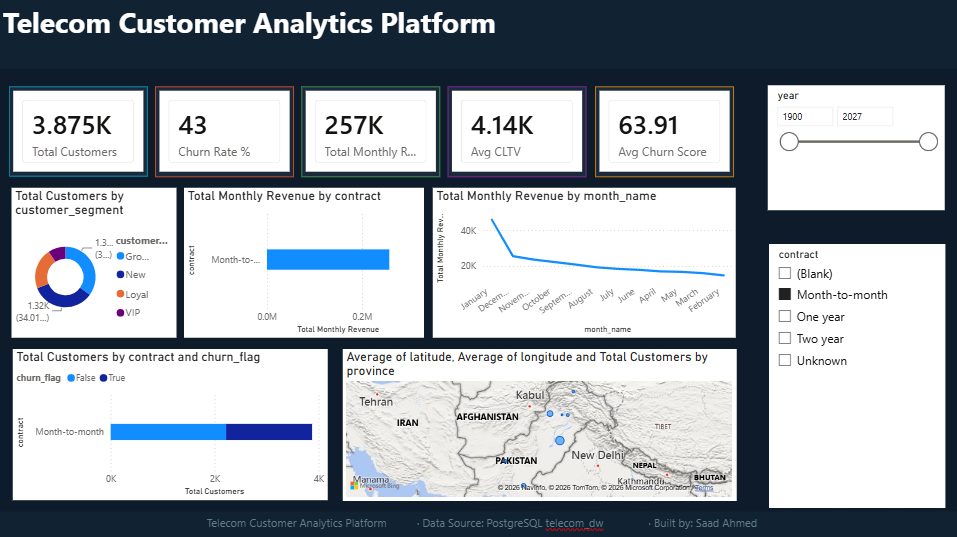

This screenshot's page, from the dashboard's own definition file:
{"tool":"powerbi","page":{"name":"Executive Summary","canvas":[1280,720],"ordinal":0},"visuals":[{"type":"textbox","box":[0,0,1280,92.9],"z":0},{"type":"cardVisual","fields":{"Data":["gold fact_customer_snapshot.Total Customers"]},"box":[13.9,116,185,120],"z":1000},{"type":"cardVisual","fields":{"Data":["gold fact_customer_snapshot.Churn Rate %"]},"box":[208.9,116,185,120.8],"z":2000},{"type":"cardVisual","fields":{"Data":["gold fact_customer_snapshot.Total Monthly Revenue"]},"box":[403.9,116,185,120.8],"z":3000},{"type":"cardVisual","fields":{"Data":["gold fact_customer_snapshot.Avg CLTV"]},"box":[598.9,116,185,120.8],"z":4000},{"type":"cardVisual","fields":{"Data":["gold fact_customer_snapshot.Avg Churn Score"]},"box":[794.7,116,185,120.8],"z":5000},{"type":"donutChart","fields":{"Category":["gold fact_customer_snapshot.customer_segment"],"Y":["gold fact_customer_snapshot.Total Customers"]},"box":[16.9,251.7,220,200],"z":6000},{"type":"clusteredBarChart","fields":{"Category":["gold dim_plan.contract"],"Y":["gold fact_customer_snapshot.Total Monthly Revenue"]},"box":[246.9,251.7,320,200],"z":7000},{"type":"lineChart","fields":{"Category":["gold dim_date.month_name"],"Y":["gold fact_customer_snapshot.Total Monthly Revenue"]},"box":[578.3,251.7,404.3,200],"z":8000},{"type":"barChart","fields":{"Category":["gold dim_plan.contract"],"Y":["gold fact_customer_snapshot.Total Customers"],"Series":["gold fact_customer_snapshot.churn_flag"]},"box":[18,466.6,420,201.4],"z":9000},{"type":"map","fields":{"Category":["gold dim_city.province"],"Y":["Avg(gold dim_city.latitude)"],"X":["Avg(gold dim_city.longitude)"],"Size":["gold fact_customer_snapshot.Total Customers"]},"box":[458.6,467.1,524.3,201.4],"z":10000},{"type":"textbox","box":[0,682.9,1280,37.1],"z":11000},{"type":"slicer","fields":{"Values":["gold dim_plan.contract"]},"box":[1026.7,326.9,235.3,352.3],"z":12000},{"type":"slicer","fields":{"Values":["gold dim_date.year"]},"box":[1025.5,115.8,235.3,165.3],"z":13000}]}

Visuals, with their boxes in screenshot pixels (x1, y1, x2, y2), scaled from the page's 1280x720 canvas onto the 957x537 screenshot:
textbox: (0, 0, 956, 69)
cardVisual - gold fact_customer_snapshot.Total Customers: (10, 87, 149, 176)
cardVisual - gold fact_customer_snapshot.Churn Rate %: (156, 87, 295, 177)
cardVisual - gold fact_customer_snapshot.Total Monthly Revenue: (302, 87, 440, 177)
cardVisual - gold fact_customer_snapshot.Avg CLTV: (448, 87, 586, 177)
cardVisual - gold fact_customer_snapshot.Avg Churn Score: (594, 87, 732, 177)
donutChart - gold fact_customer_snapshot.customer_segment x gold fact_customer_snapshot.Total Customers: (13, 188, 177, 337)
clusteredBarChart - gold dim_plan.contract x gold fact_customer_snapshot.Total Monthly Revenue: (185, 188, 424, 337)
lineChart - gold dim_date.month_name x gold fact_customer_snapshot.Total Monthly Revenue: (432, 188, 735, 337)
barChart - gold dim_plan.contract x gold fact_customer_snapshot.Total Customers: (13, 348, 327, 498)
map - gold dim_city.province x Avg(gold dim_city.latitude): (343, 348, 735, 499)
textbox: (0, 509, 956, 536)
slicer - gold dim_plan.contract: (768, 244, 944, 507)
slicer - gold dim_date.year: (767, 86, 943, 210)
